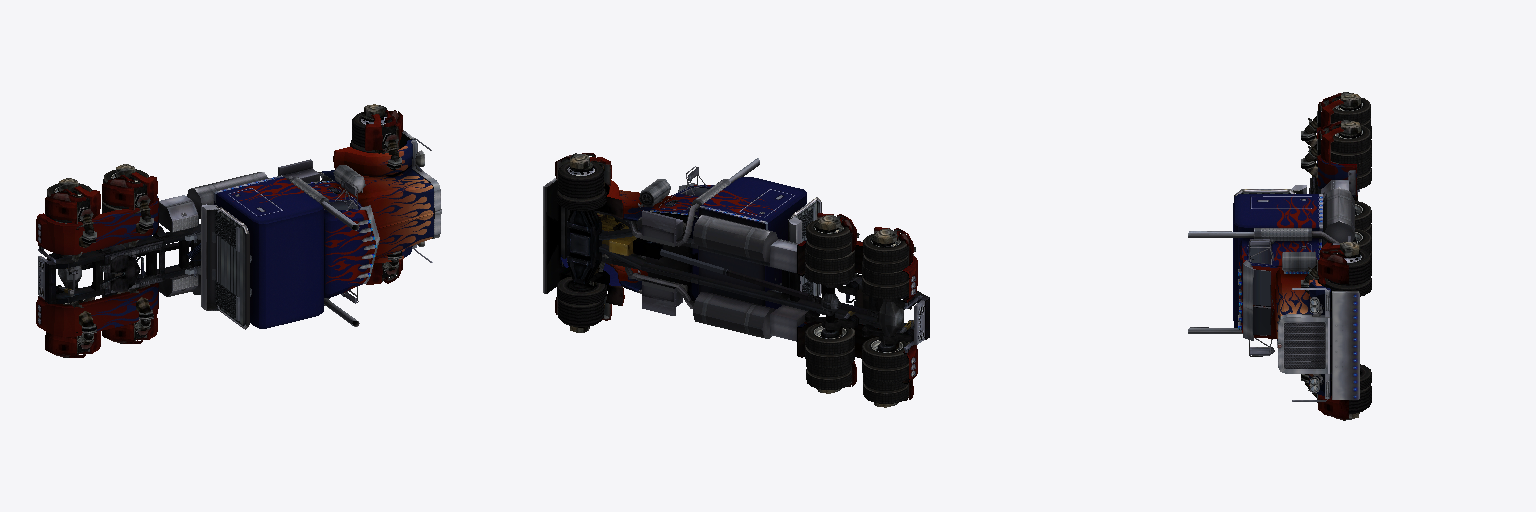
The picture shows the model from 3 angles: view 1: azimuth 30°, elevation 25°; view 2: azimuth 150°, elevation 25°; view 3: azimuth 270°, elevation 25°; orthographic projection.
Parts seen in each view (by area): view 1: C_Reference_XR; view 2: C_Reference_XR; view 3: C_Reference_XR.
Boxes of the visible parts, box(x1,y1,x2,y2) form: C_Reference_XR: box(36, 104, 441, 357); C_Reference_XR: box(543, 153, 929, 407); C_Reference_XR: box(1188, 92, 1371, 420).
Bounding box in the file's own units: 1049 × 469 × 453.
Materials: 2 (2 with a texture image).